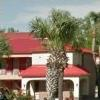Palm tree: (23, 5, 82, 100)
